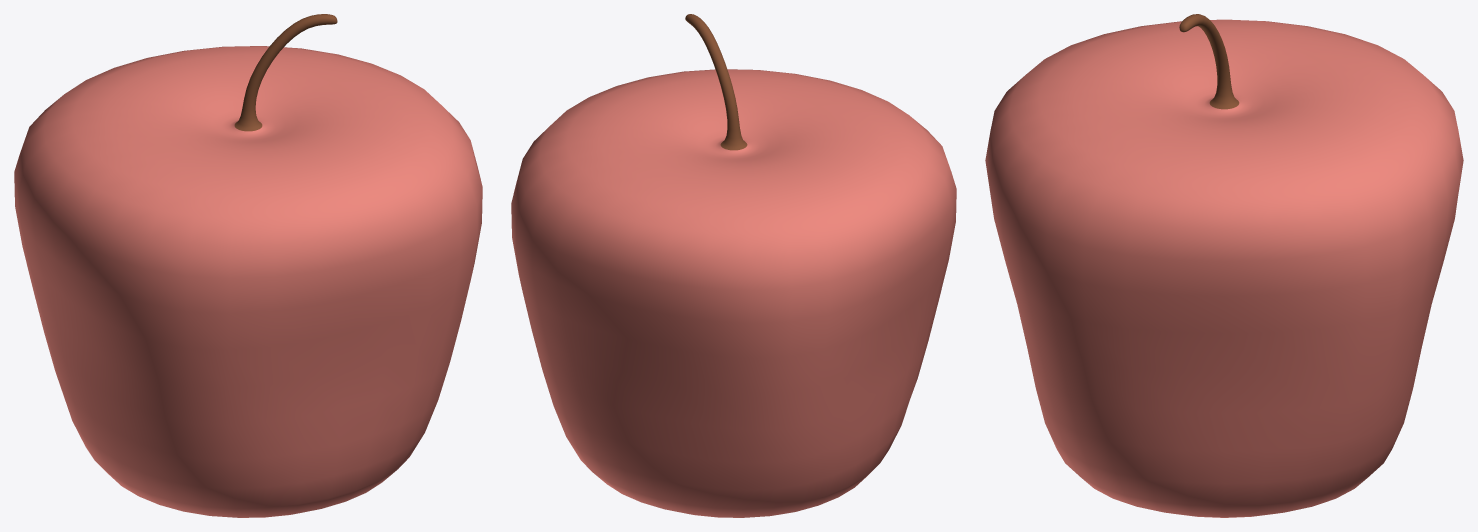
Rendered from apple.glb.
3 renders of one model, left to right at view 1: azimuth 30°, elevation 25°; view 2: azimuth 150°, elevation 25°; view 3: azimuth 270°, elevation 25°, orthographic. The views are drawn at different scales.
Visible parts, largest first — view 1: Cube.001; view 2: Cube.001; view 3: Cube.001.
Boxes of the visible parts, <box> form: Cube.001: <box>14,14,482,517</box>; Cube.001: <box>511,14,956,517</box>; Cube.001: <box>985,14,1463,517</box>.
Bounding box in the file's own units: 0.4814 × 0.5272 × 0.4814.
